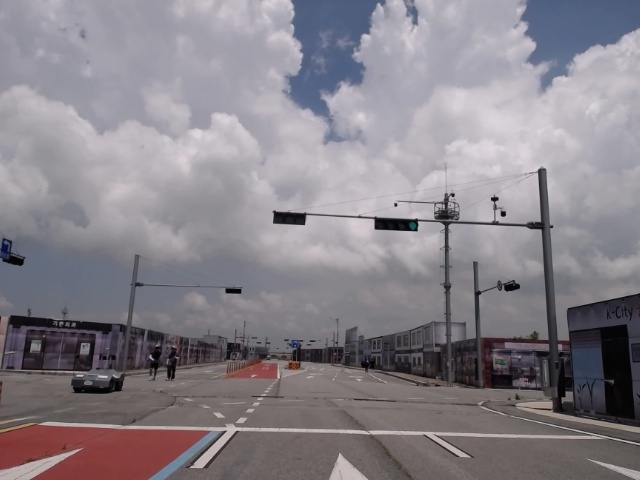straight_green_4: (375, 218, 420, 232)
